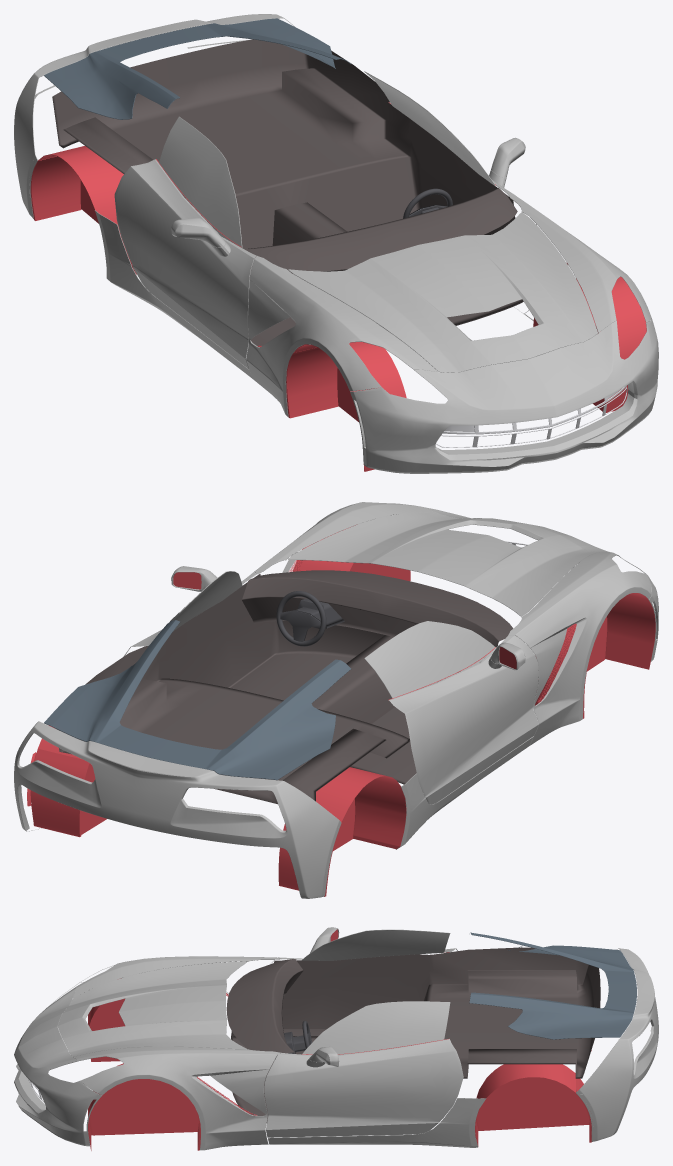
The model's file is corvette-stingray.glb.
3 renders of one model, top to bottom at view 1: azimuth 30°, elevation 25°; view 2: azimuth 150°, elevation 25°; view 3: azimuth 270°, elevation 25°, orthographic. The views are drawn at different scales.
Parts seen in each view (by area): view 1: Interior_-_Shell, Bumber_Front, Hood, Front_Fender, Guie_Front_Fendor__And_Door002, Back_WindShield_Frame, Roof_1009, Bumber_Front003, Tail, Bumber_Front006, Guie_Front_Fendor__And_Door004, Bumber_Front005 (+3 smaller); view 2: Interior_-_Shell, Tail, Hood, Back_WindShield_Frame, Guie_Front_Fendor__And_Door002, Front_Fender, Bumber_Front003, Roof_1009, Bumber_Front005, Interior_-_Steering_Wheel, Guie_Front_Fendor__And_Door004, Plane (+3 smaller); view 3: Interior_-_Shell, Guie_Front_Fendor__And_Door002, Bumber_Front003, Front_Fender, Hood, Roof_1009, Back_WindShield_Frame, Bumber_Front, Tail, Guie_Front_Fendor__And_Door004, Plane, Interior_-_Steering_Wheel.
Part boxes in pixels (x1,y1,x2,y2): Interior_-_Shell: [52, 39, 523, 352]; Bumber_Front: [350, 319, 658, 473]; Hood: [288, 212, 597, 372]; Front_Fender: [246, 194, 651, 417]; Guie_Front_Fendor__And_Door002: [114, 102, 536, 368]; Back_WindShield_Frame: [44, 18, 350, 119]; Roof_1009: [159, 71, 495, 247]; Bumber_Front003: [38, 146, 646, 471]; Tail: [14, 14, 294, 218]; Bumber_Front006: [286, 324, 534, 418]; Guie_Front_Fendor__And_Door004: [95, 210, 528, 377]; Bumber_Front005: [30, 156, 81, 220]; Interior_-_Shell: [55, 570, 512, 804]; Tail: [14, 721, 341, 898]; Hood: [288, 512, 597, 616]; Back_WindShield_Frame: [44, 620, 350, 780]; Guie_Front_Fendor__And_Door002: [123, 572, 538, 804]; Front_Fender: [249, 502, 651, 745]; Bumber_Front003: [38, 525, 655, 883]; Roof_1009: [170, 571, 495, 698]; Bumber_Front005: [30, 748, 337, 896]; Interior_-_Steering_Wheel: [276, 591, 344, 646]; Guie_Front_Fendor__And_Door004: [396, 737, 532, 849]; Plane: [171, 566, 525, 670]; Interior_-_Shell: [226, 947, 600, 1122]; Guie_Front_Fendor__And_Door002: [264, 948, 463, 1137]; Bumber_Front003: [88, 998, 589, 1150]; Front_Fender: [73, 956, 280, 1150]; Hood: [57, 961, 246, 1056]; Roof_1009: [301, 929, 450, 1055]; Back_WindShield_Frame: [469, 932, 636, 1039]; Bumber_Front: [14, 982, 102, 1146]; Tail: [576, 948, 658, 1141]; Guie_Front_Fendor__And_Door004: [268, 1098, 486, 1147]; Plane: [306, 927, 339, 1067]; Interior_-_Steering_Wheel: [275, 1020, 312, 1059].
Size of what is drawn, in the model's own units: 0.4792 by 0.2314 by 1.
